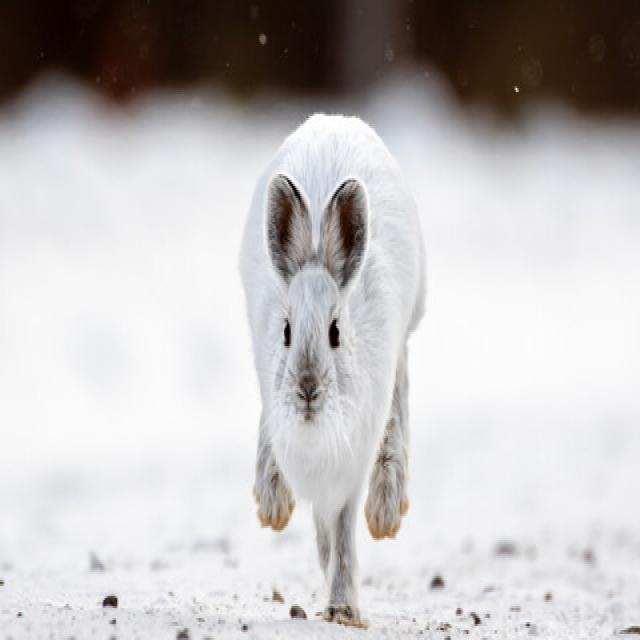Hare: (235, 110, 422, 639)
